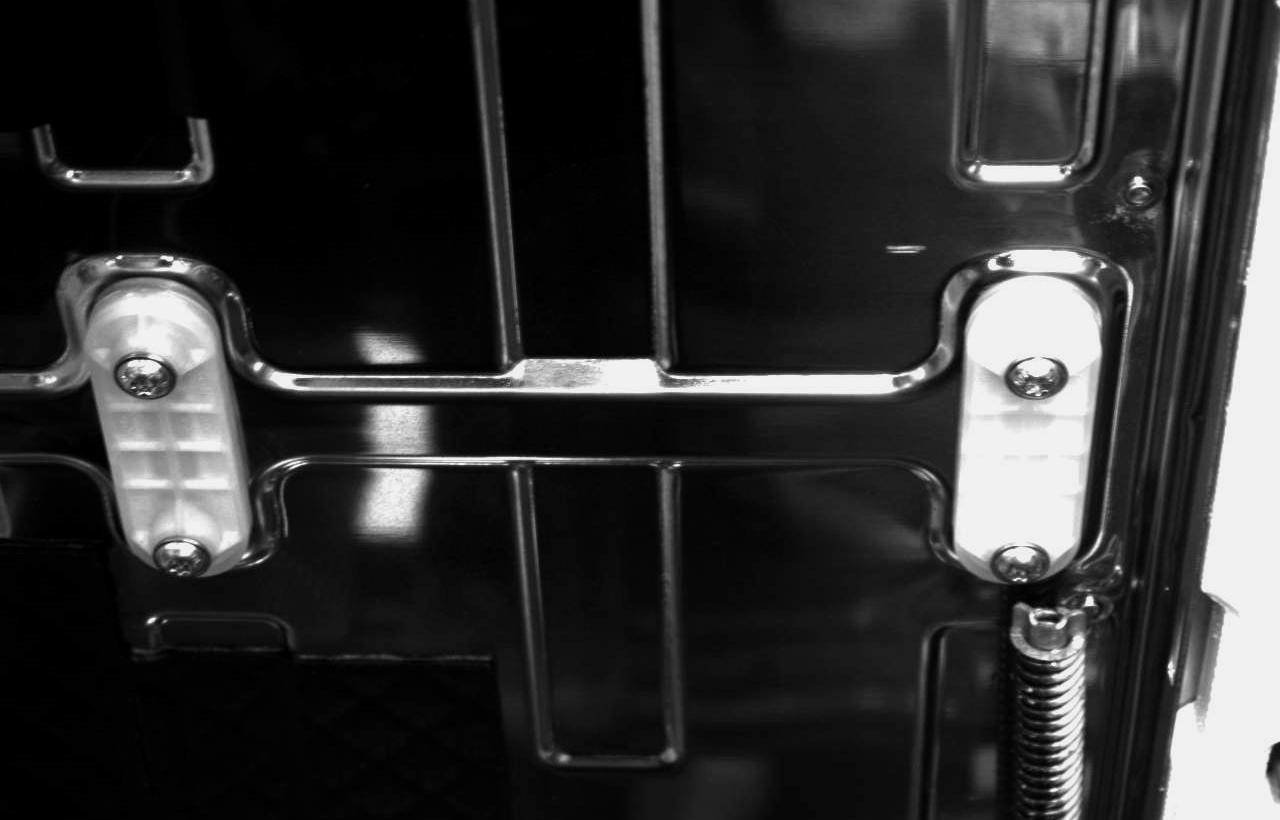vida-ok: (107, 345, 179, 412), (1006, 342, 1073, 409), (986, 538, 1051, 597), (149, 524, 214, 582)
